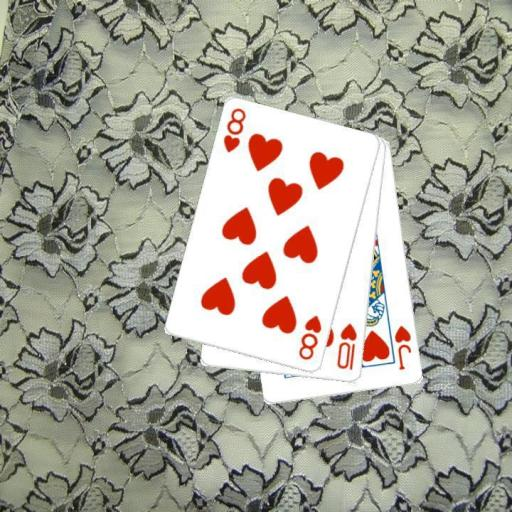card-corner: (295, 312, 324, 362), (220, 106, 248, 154), (334, 321, 359, 372), (392, 322, 413, 372)
